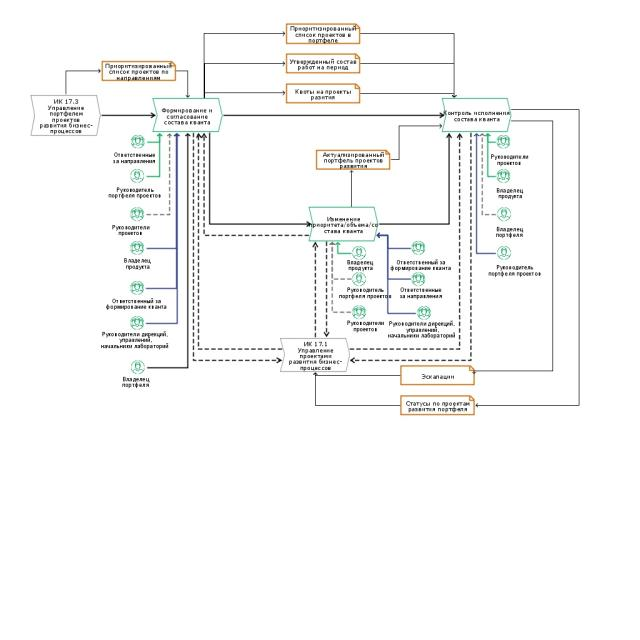arrow: (147, 133, 190, 369), (208, 132, 312, 228), (379, 133, 452, 226), (146, 133, 180, 325), (361, 31, 457, 98), (202, 31, 286, 97), (376, 232, 416, 314), (312, 372, 400, 407), (203, 61, 284, 98), (473, 133, 496, 255), (391, 123, 442, 161), (224, 112, 445, 118), (64, 68, 100, 94), (147, 130, 163, 180), (203, 90, 285, 98), (485, 133, 496, 178), (177, 69, 190, 98), (101, 112, 156, 118), (335, 242, 352, 255), (349, 170, 354, 207)
circle: (131, 360, 146, 374), (352, 246, 366, 260), (352, 272, 366, 286), (130, 169, 144, 183), (352, 305, 366, 319), (131, 207, 144, 221), (130, 241, 144, 254), (130, 316, 144, 329), (497, 208, 511, 221), (412, 272, 425, 286), (496, 135, 509, 148), (131, 135, 144, 148), (412, 241, 425, 254), (417, 307, 431, 319), (497, 247, 511, 259), (497, 169, 509, 182), (131, 282, 144, 294)
rectangle: (29, 94, 100, 137), (154, 98, 222, 133), (442, 98, 510, 132), (281, 338, 349, 372), (309, 207, 377, 241), (101, 61, 176, 81), (400, 395, 474, 415), (286, 24, 360, 44), (400, 365, 474, 385), (316, 150, 390, 169), (286, 84, 360, 103), (286, 54, 360, 73)
text_region: (101, 331, 169, 349), (388, 321, 456, 338), (106, 297, 167, 310), (391, 260, 451, 271), (339, 287, 391, 299), (107, 187, 162, 198), (488, 265, 542, 276), (113, 152, 156, 165), (400, 287, 442, 299), (491, 154, 529, 166), (347, 320, 384, 332), (111, 225, 150, 236), (121, 376, 151, 388), (346, 259, 374, 271), (496, 187, 524, 199), (496, 226, 523, 238), (124, 258, 151, 269)
